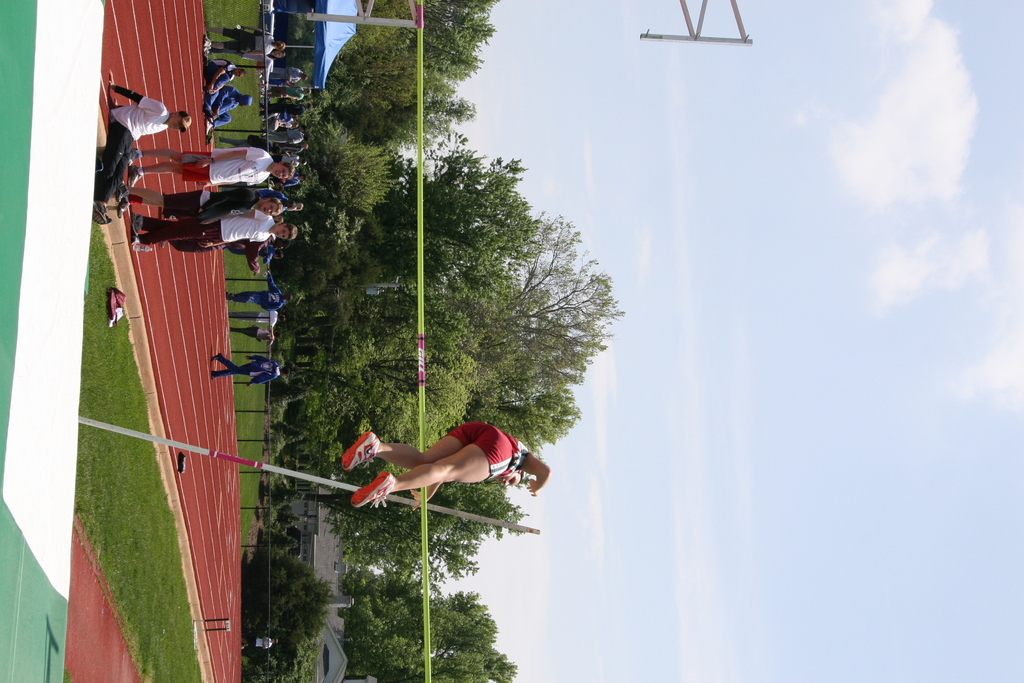Person: (91, 20, 303, 386), (340, 420, 551, 514), (238, 637, 279, 649)
